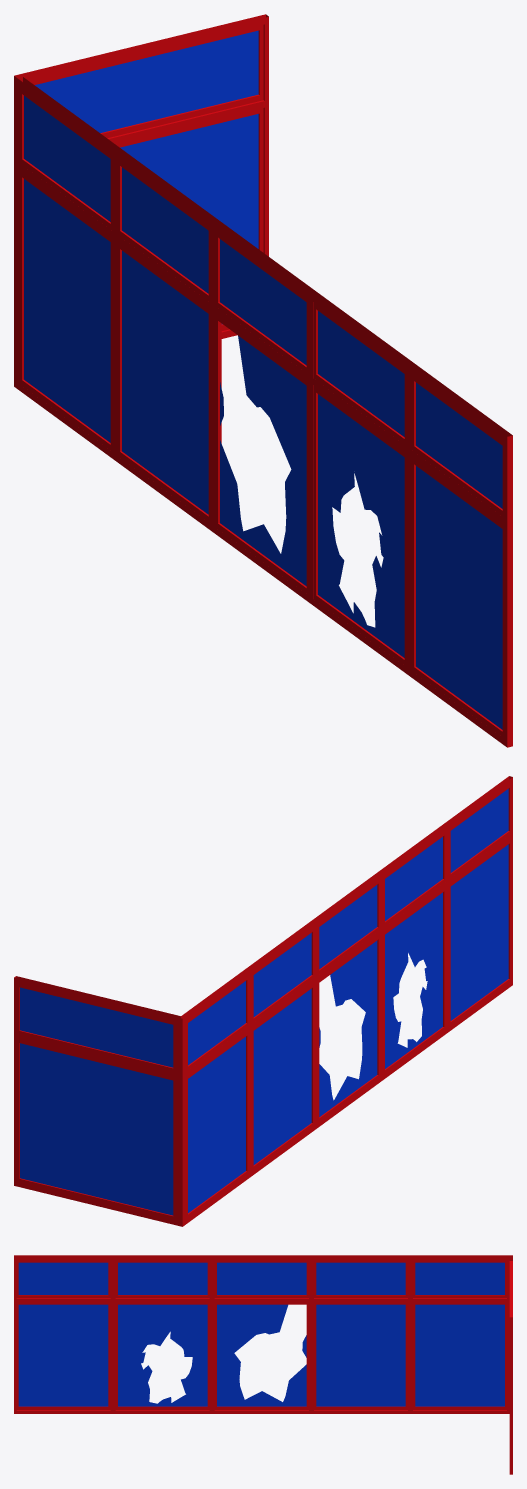
Rendered from wall01_l.fbx.
3 renders of one model, top to bottom at view 1: azimuth 30°, elevation 25°; view 2: azimuth 150°, elevation 25°; view 3: azimuth 270°, elevation 25°, orthographic. The views are drawn at different scales.
Parts seen in each view (by area): view 1: Plane.004; view 2: Plane.004; view 3: Plane.004.
Part boxes in pixels (<box>): Plane.004: <box>14,14,512,747</box>; Plane.004: <box>14,776,512,1226</box>; Plane.004: <box>14,1255,512,1474</box>.
Bounding box in the file's own units: 890 × 1050 × 3020.
